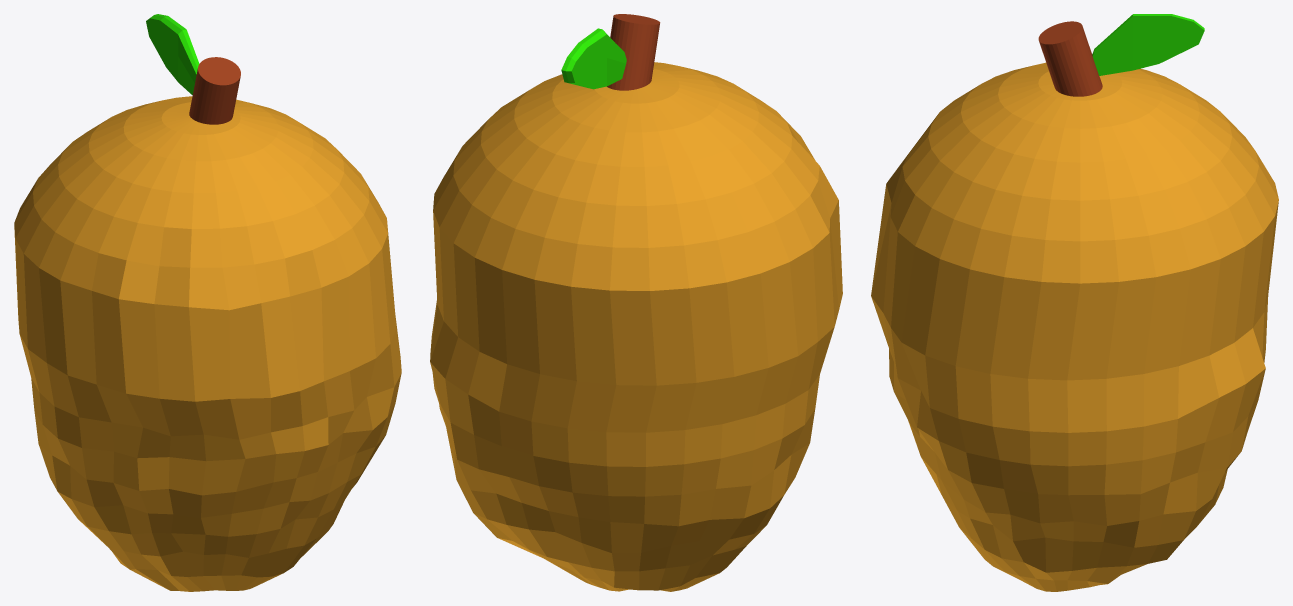
The model's file is mango.glb.
The picture shows the model from 3 angles, left to right: view 1: azimuth 30°, elevation 25°; view 2: azimuth 150°, elevation 25°; view 3: azimuth 270°, elevation 25°; orthographic projection. The views are drawn at different scales.
Visible parts, largest first — view 1: Sphere; view 2: Sphere; view 3: Sphere.
Part boxes in pixels (x1,y1,x2,y2): Sphere: (14,14,401,591); Sphere: (430,14,842,591); Sphere: (871,14,1278,591).
Bounding box in the file's own units: 27.93 × 42.47 × 27.97.
